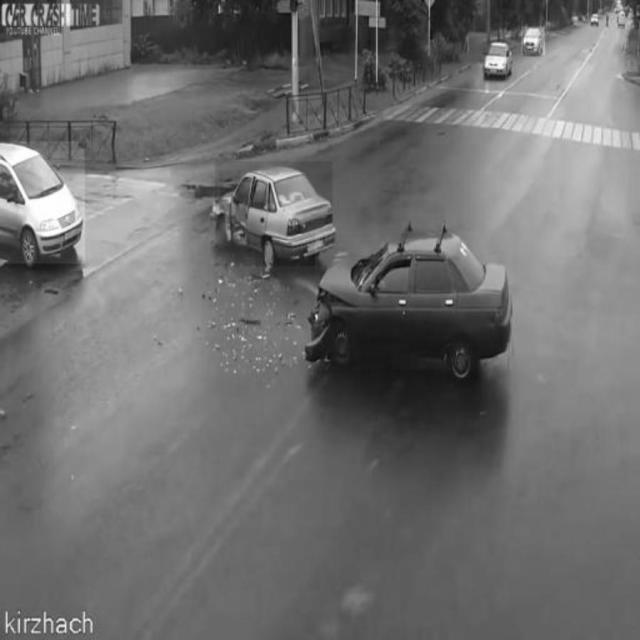vehicle: (316, 232, 513, 370), (215, 162, 333, 266), (0, 141, 84, 264), (482, 39, 516, 79), (522, 26, 546, 54)
